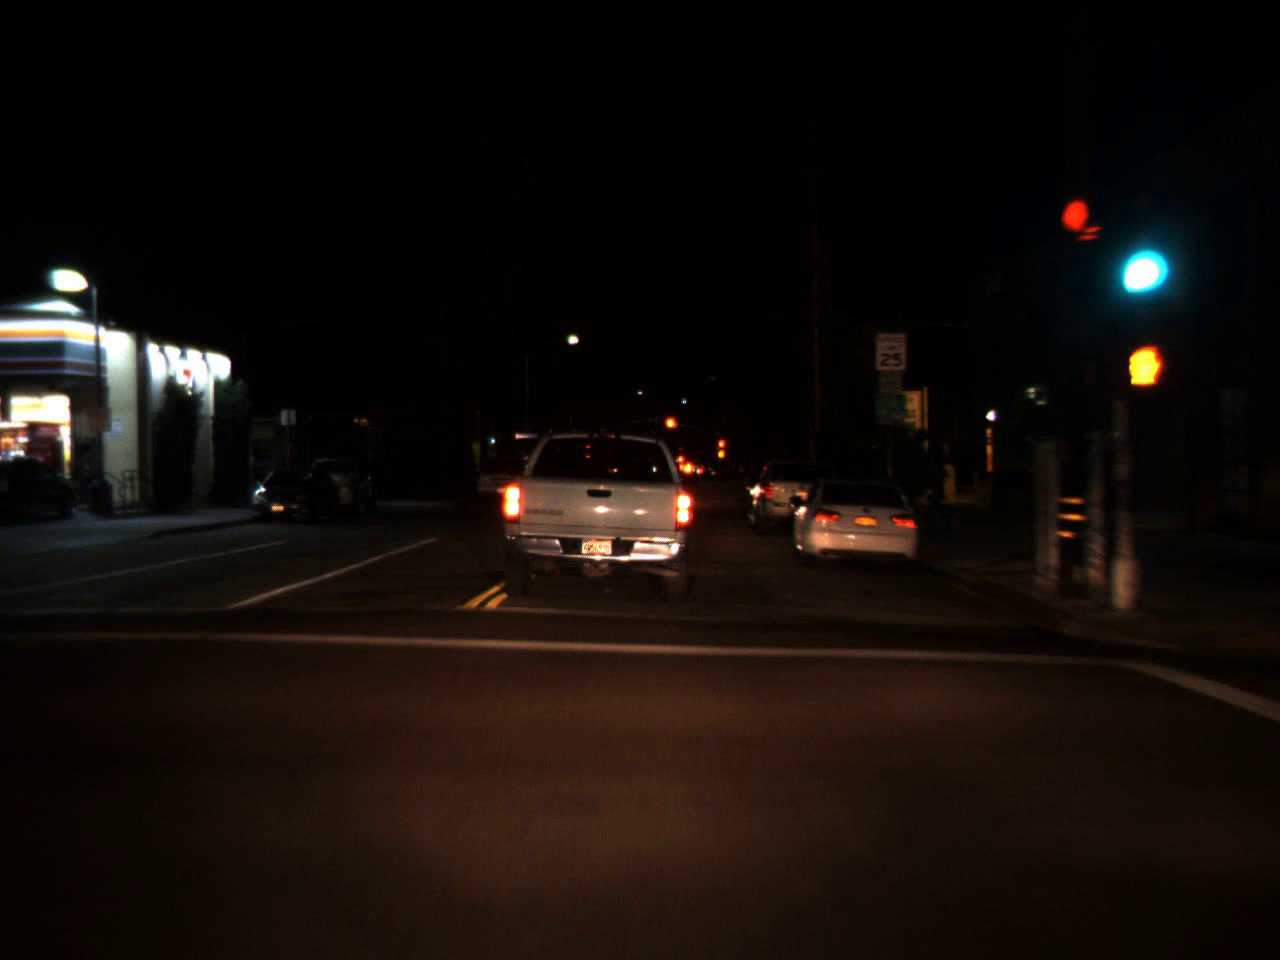go: (1110, 219, 1160, 303)
stop: (663, 415, 678, 442), (717, 438, 724, 456)
